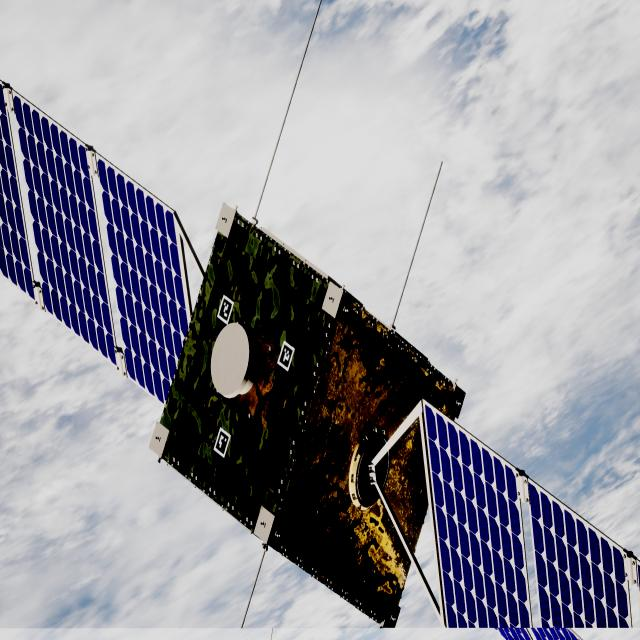satellite: (0, 80, 640, 640)
